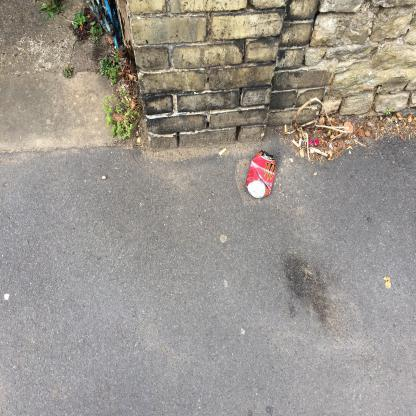metal: (247, 150, 277, 200)
